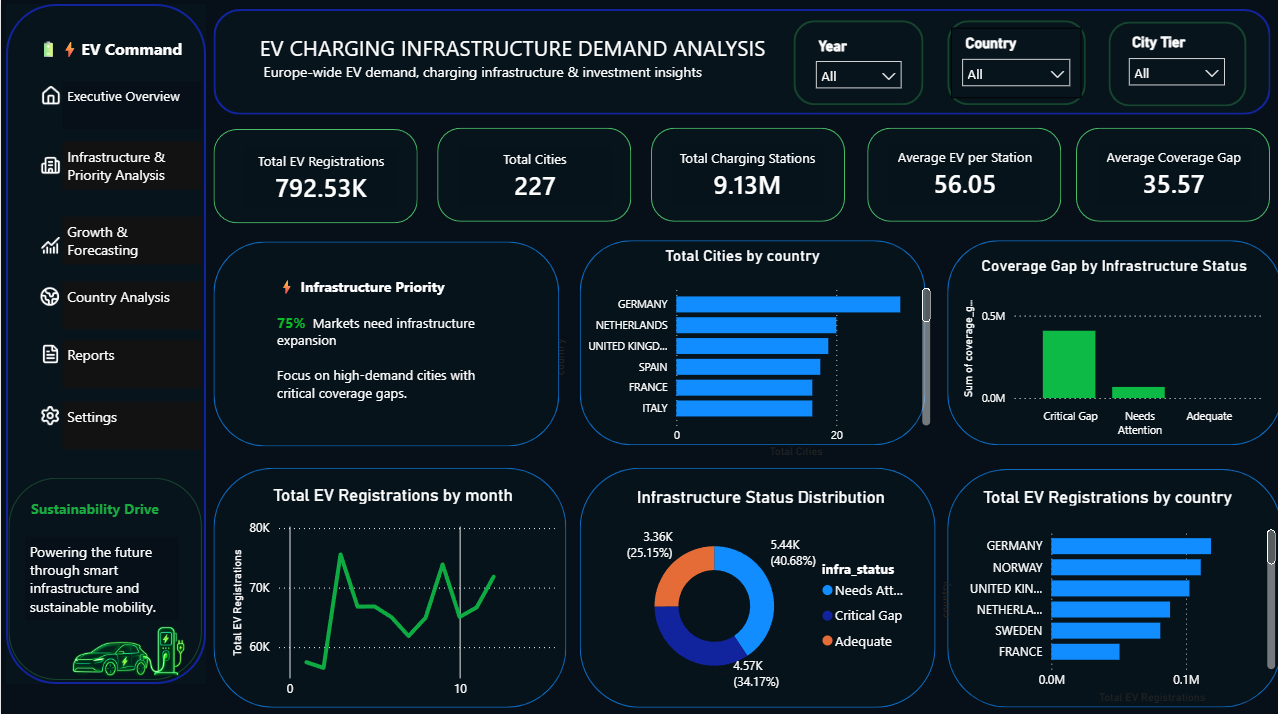

This screenshot's page, from the dashboard's own definition file:
{"tool":"powerbi","page":{"name":"1.Executive Overview","canvas":[1280,720],"ordinal":0},"visuals":[{"type":"shape","box":[578.6,468.6,355.7,240],"z":0},{"type":"slicer","fields":{"Values":["ev_charging_analysis ev_data.country"]},"box":[963.8,28.8,115,66.2],"z":1000},{"type":"shape","box":[4.4,5.6,200,680],"z":2000},{"type":"donutChart","title":"Infrastructure Status Distribution","fields":{"Y":["CountNonNull(ev_charging_analysis ev_data.infra_status)"],"Category":["ev_charging_analysis ev_data.infra_status"]},"box":[601.4,487.1,317.5,208.8],"z":3000},{"type":"textbox","box":[20,34.2,177.5,38.3],"z":4000},{"type":"textbox","box":[60.7,142.1,140,48],"z":5000},{"type":"textbox","box":[60.7,217.1,140,48],"z":6000},{"type":"textbox","box":[60.7,282.9,140,48],"z":7000},{"type":"textbox","box":[60.7,340.7,140,48],"z":8000},{"type":"textbox","box":[60.7,402.9,140,48],"z":9000},{"type":"image","box":[38.6,86.4,22.1,20.7],"z":10000},{"type":"image","box":[38.6,236.4,21,20],"z":11000},{"type":"image","box":[38.6,156.4,21,20],"z":12000},{"type":"image","box":[38.6,287.1,20.7,20],"z":13000},{"type":"image","box":[38.6,345,21,20],"z":14000},{"type":"image","box":[38.6,406.4,20.7,20.7],"z":15000},{"type":"textbox","box":[60.7,82.9,140,48],"z":16000},{"type":"shape","box":[7.8,478.9,193.3,202.2],"z":17000},{"type":"image","box":[60,612.2,128.9,84.4],"z":18000},{"type":"textbox","box":[24.4,495.6,154.4,34.4],"z":19000},{"type":"textbox","box":[24.2,537.5,154.3,84.3],"z":20000},{"type":"shape","box":[212.9,10,1057.1,105.7],"z":21000},{"type":"textbox","box":[253.8,28.8,527.5,66.2],"z":22000},{"type":"shape","box":[792.5,21.2,130,85],"z":23000},{"type":"shape","box":[946.2,21.2,138.8,85],"z":24000},{"type":"shape","box":[1107.5,22.5,138,85],"z":25000},{"type":"slicer","fields":{"Values":["ev_charging_analysis ev_data.year"]},"box":[803.8,32.5,107.5,63.8],"z":26000},{"type":"slicer","fields":{"Values":["ev_charging_analysis ev_data.country"]},"box":[950,28.8,130,70],"z":27000},{"type":"slicer","fields":{"Values":["ev_charging_analysis ev_data.city_tier"]},"box":[1117.5,28.8,116.2,71],"z":28000},{"type":"shape","box":[436.2,128.8,194,94],"z":29000},{"type":"shape","box":[650,128.8,194,94],"z":30000},{"type":"shape","box":[866.2,128.8,194,94],"z":31000},{"type":"shape","box":[1075,128.8,194,94],"z":32000},{"type":"shape","box":[212.9,130,204.3,94.3],"z":33000},{"type":"cardVisual","fields":{"Data":["ev_charging_analysis ev_data.Total EV Registrations"]},"box":[238.7,142,163.2,71.2],"z":34000},{"type":"cardVisual","fields":{"Data":["ev_charging_analysis ev_data.Total Cities"]},"box":[452,141.3,163.2,71.2],"z":35000},{"type":"cardVisual","fields":{"Data":["ev_charging_analysis ev_data.Total Charging Stations"]},"box":[665.3,140,163.2,71.2],"z":36000},{"type":"cardVisual","fields":{"Data":["ev_charging_analysis ev_data.Average EV per Station"]},"box":[882.5,138.8,163.2,71.2],"z":37000},{"type":"cardVisual","fields":{"Data":["ev_charging_analysis ev_data.Average Coverage Gap"]},"box":[1091.2,138.8,163.2,71.2],"z":38000},{"type":"shape","box":[212.9,468.6,352.9,240],"z":39000},{"type":"lineChart","fields":{"Category":["ev_charging_analysis ev_data.month"],"Y":["ev_charging_analysis ev_data.Total EV Registrations"]},"box":[227.1,482.9,329,223],"z":40000},{"type":"shape","box":[945.7,241.4,335,205],"z":41000},{"type":"shape","box":[945.7,470,334.3,238.6],"z":42000},{"type":"barChart","fields":{"Category":["ev_charging_analysis ev_data.country"],"Y":["ev_charging_analysis ev_data.Total EV Registrations"]},"box":[934.3,487.1,345.7,221.4],"z":43000},{"type":"columnChart","title":"Coverage Gap by Infrastructure Status","fields":{"Category":["ev_charging_analysis ev_data.infra_status"],"Y":["Sum(ev_charging_analysis ev_data.coverage_gap)"]},"box":[957.1,257.1,311.4,188.6],"z":44000},{"type":"shape","box":[578.6,241.4,345.7,205],"z":45000},{"type":"clusteredBarChart","fields":{"Y":["ev_charging_analysis ev_data.Total Cities"],"Category":["ev_charging_analysis ev_data.country"]},"box":[548.6,247.1,385.7,215.7],"z":46000},{"type":"shape","box":[212.9,242.9,345.7,205],"z":47000},{"type":"textbox","box":[263.8,273.1,233.8,136.2],"z":49000}]}

Visuals, with their boxes on the page's 1280x720 design canvas (x1, y1, x2, y2). These are canvas units, not pixel positions in the 1278x714 screenshot, which may show the page scaled, cropped or inside an application window:
shape: {"x1": 579, "y1": 469, "x2": 934, "y2": 709}
slicer - ev_charging_analysis ev_data.country: {"x1": 964, "y1": 29, "x2": 1079, "y2": 95}
shape: {"x1": 4, "y1": 6, "x2": 204, "y2": 686}
"Infrastructure Status Distribution" donutChart: {"x1": 601, "y1": 487, "x2": 919, "y2": 696}
textbox: {"x1": 20, "y1": 34, "x2": 198, "y2": 72}
textbox: {"x1": 61, "y1": 142, "x2": 201, "y2": 190}
textbox: {"x1": 61, "y1": 217, "x2": 201, "y2": 265}
textbox: {"x1": 61, "y1": 283, "x2": 201, "y2": 331}
textbox: {"x1": 61, "y1": 341, "x2": 201, "y2": 389}
textbox: {"x1": 61, "y1": 403, "x2": 201, "y2": 451}
image: {"x1": 39, "y1": 86, "x2": 61, "y2": 107}
image: {"x1": 39, "y1": 236, "x2": 60, "y2": 256}
image: {"x1": 39, "y1": 156, "x2": 60, "y2": 176}
image: {"x1": 39, "y1": 287, "x2": 59, "y2": 307}
image: {"x1": 39, "y1": 345, "x2": 60, "y2": 365}
image: {"x1": 39, "y1": 406, "x2": 59, "y2": 427}
textbox: {"x1": 61, "y1": 83, "x2": 201, "y2": 131}
shape: {"x1": 8, "y1": 479, "x2": 201, "y2": 681}
image: {"x1": 60, "y1": 612, "x2": 189, "y2": 697}
textbox: {"x1": 24, "y1": 496, "x2": 179, "y2": 530}
textbox: {"x1": 24, "y1": 538, "x2": 178, "y2": 622}
shape: {"x1": 213, "y1": 10, "x2": 1270, "y2": 116}
textbox: {"x1": 254, "y1": 29, "x2": 781, "y2": 95}
shape: {"x1": 792, "y1": 21, "x2": 922, "y2": 106}
shape: {"x1": 946, "y1": 21, "x2": 1085, "y2": 106}
shape: {"x1": 1108, "y1": 22, "x2": 1246, "y2": 108}
slicer - ev_charging_analysis ev_data.year: {"x1": 804, "y1": 32, "x2": 911, "y2": 96}
slicer - ev_charging_analysis ev_data.country: {"x1": 950, "y1": 29, "x2": 1080, "y2": 99}
slicer - ev_charging_analysis ev_data.city_tier: {"x1": 1118, "y1": 29, "x2": 1234, "y2": 100}
shape: {"x1": 436, "y1": 129, "x2": 630, "y2": 223}
shape: {"x1": 650, "y1": 129, "x2": 844, "y2": 223}
shape: {"x1": 866, "y1": 129, "x2": 1060, "y2": 223}
shape: {"x1": 1075, "y1": 129, "x2": 1269, "y2": 223}
shape: {"x1": 213, "y1": 130, "x2": 417, "y2": 224}
cardVisual - ev_charging_analysis ev_data.Total EV Registrations: {"x1": 239, "y1": 142, "x2": 402, "y2": 213}
cardVisual - ev_charging_analysis ev_data.Total Cities: {"x1": 452, "y1": 141, "x2": 615, "y2": 212}
cardVisual - ev_charging_analysis ev_data.Total Charging Stations: {"x1": 665, "y1": 140, "x2": 828, "y2": 211}
cardVisual - ev_charging_analysis ev_data.Average EV per Station: {"x1": 882, "y1": 139, "x2": 1046, "y2": 210}
cardVisual - ev_charging_analysis ev_data.Average Coverage Gap: {"x1": 1091, "y1": 139, "x2": 1254, "y2": 210}
shape: {"x1": 213, "y1": 469, "x2": 566, "y2": 709}
lineChart - ev_charging_analysis ev_data.month x ev_charging_analysis ev_data.Total EV Registrations: {"x1": 227, "y1": 483, "x2": 556, "y2": 706}
shape: {"x1": 946, "y1": 241, "x2": 1281, "y2": 446}
shape: {"x1": 946, "y1": 470, "x2": 1280, "y2": 709}
barChart - ev_charging_analysis ev_data.country x ev_charging_analysis ev_data.Total EV Registrations: {"x1": 934, "y1": 487, "x2": 1280, "y2": 708}
"Coverage Gap by Infrastructure Status" columnChart: {"x1": 957, "y1": 257, "x2": 1268, "y2": 446}
shape: {"x1": 579, "y1": 241, "x2": 924, "y2": 446}
clusteredBarChart - ev_charging_analysis ev_data.Total Cities x ev_charging_analysis ev_data.country: {"x1": 549, "y1": 247, "x2": 934, "y2": 463}
shape: {"x1": 213, "y1": 243, "x2": 559, "y2": 448}
textbox: {"x1": 264, "y1": 273, "x2": 498, "y2": 409}
